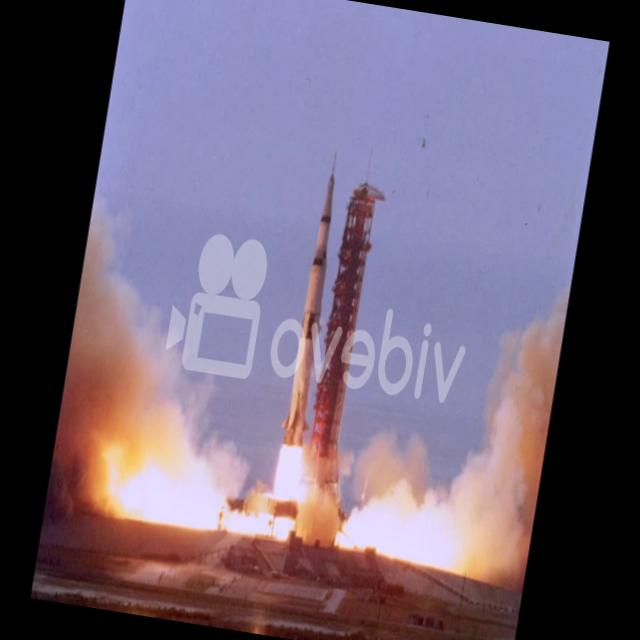rocket: (271, 158, 354, 509)
